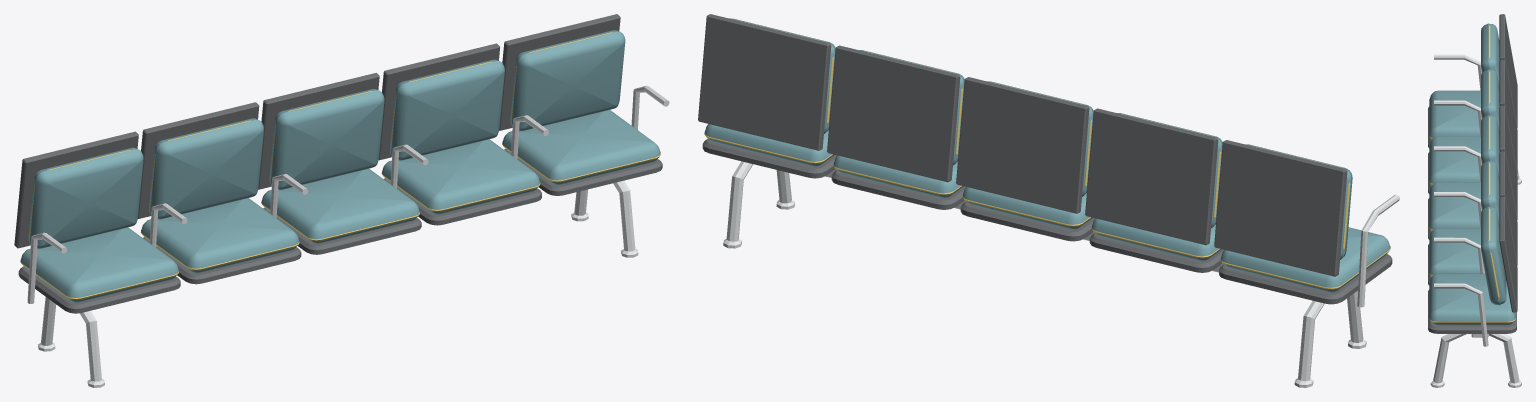
Rendered from clinic-and-veterinary-practice-waiting-bench-5-seat-0695a546__16731.glb.
The picture shows the model from 3 angles, left to right: view 1: azimuth 30°, elevation 25°; view 2: azimuth 150°, elevation 25°; view 3: azimuth 270°, elevation 25°; orthographic projection. The views are drawn at different scales.
Visible parts, largest first — view 1: waiting-bench-5-seat; view 2: waiting-bench-5-seat; view 3: waiting-bench-5-seat.
Part boxes in pixels (x1=…): waiting-bench-5-seat: x1=14, y1=14, x2=669, y2=387; waiting-bench-5-seat: x1=698, y1=14, x2=1399, y2=387; waiting-bench-5-seat: x1=1428, y1=14, x2=1521, y2=387.
Size of the model in its own units: 2.83 by 0.8961 by 0.4859.
